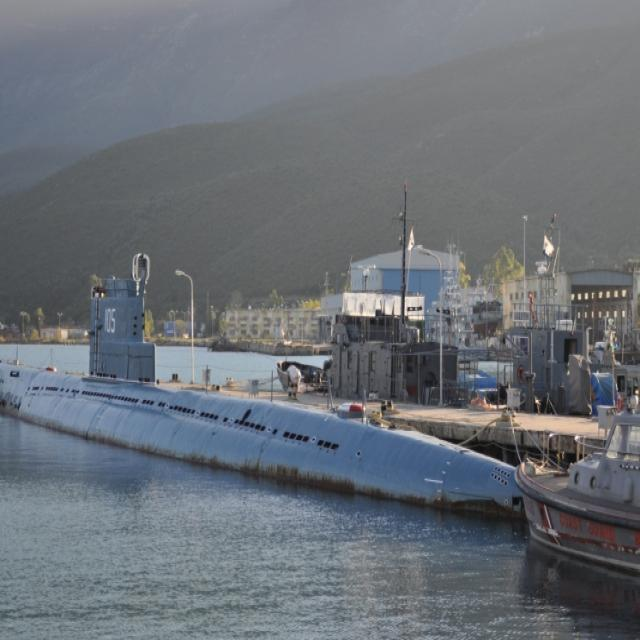submarine: (1, 273, 531, 526)
